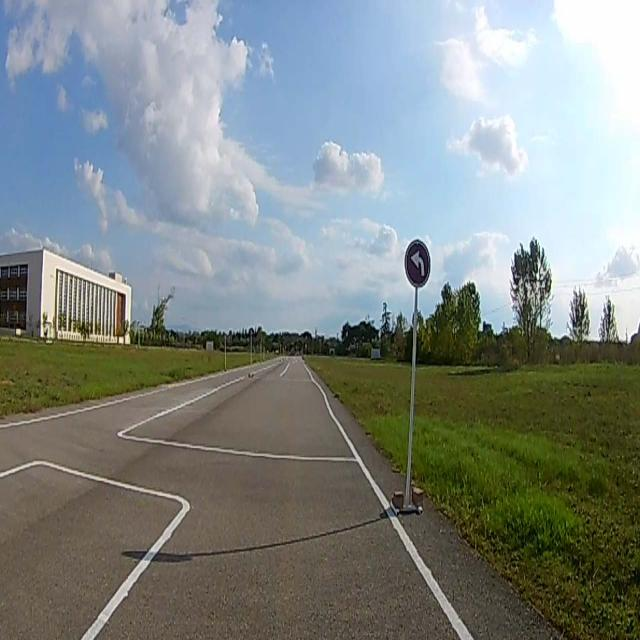sol: (404, 239, 430, 287)
